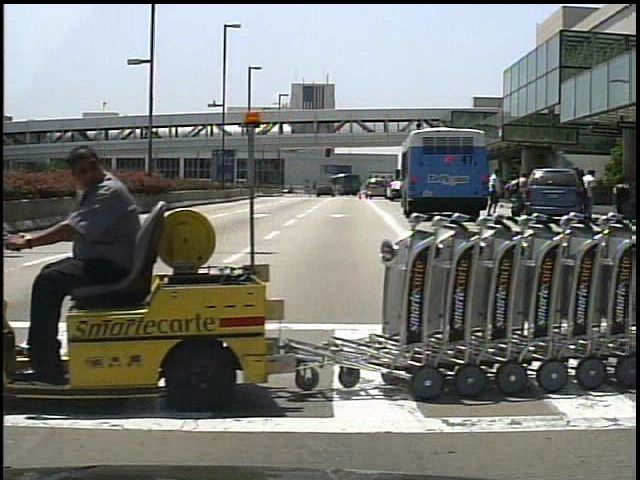person: (45, 143, 154, 382), (507, 167, 529, 219), (580, 165, 601, 214), (487, 166, 506, 217)
